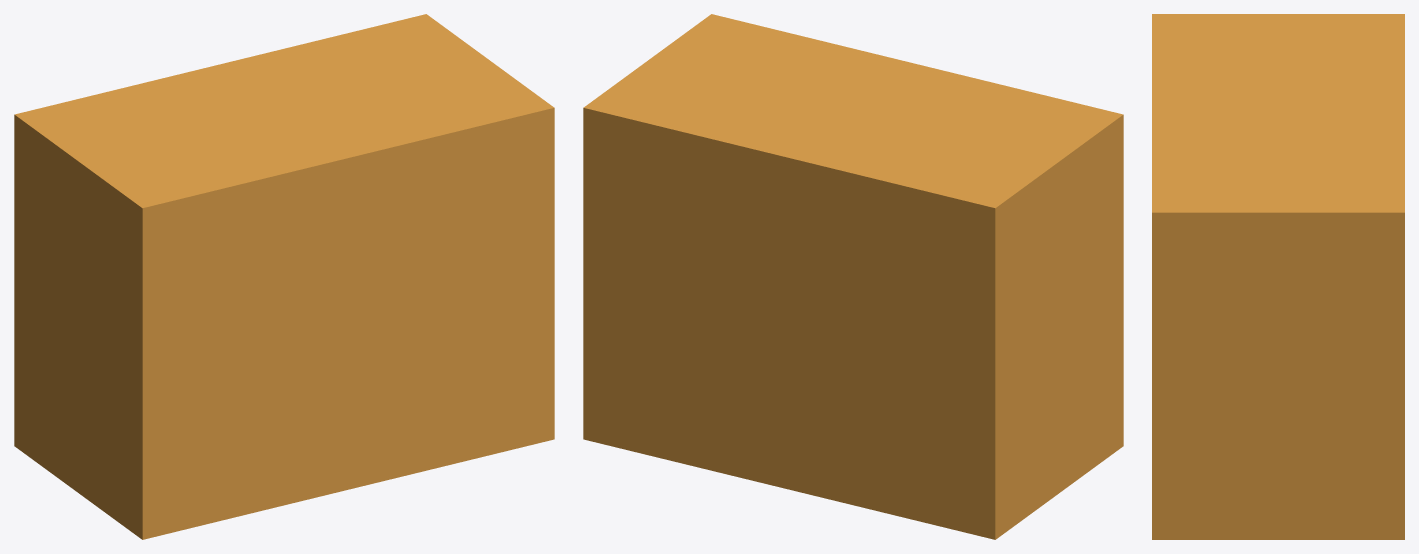
The model's file is crib-01.glb.
3 views of the same model, side by side, from view 1: azimuth 30°, elevation 25°; view 2: azimuth 150°, elevation 25°; view 3: azimuth 270°, elevation 25° (orthographic).
Bounding box in the file's own units: 1.3 × 1 × 0.7.
